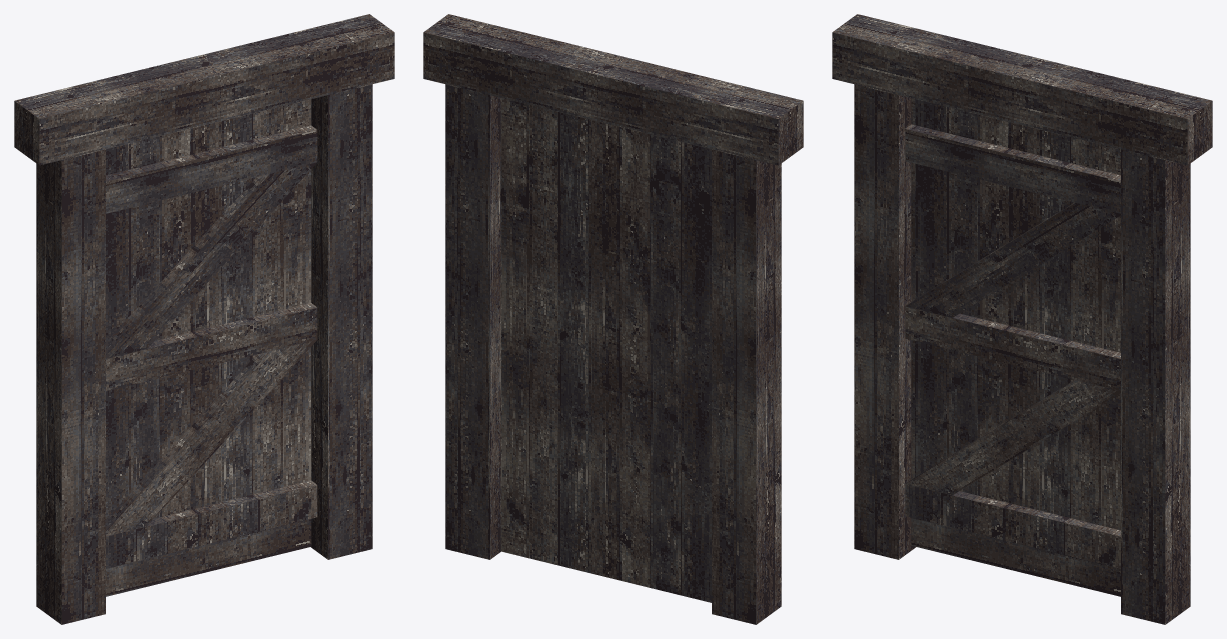
File: door_w_frame.glb
The picture shows the model from 3 angles, left to right: view 1: azimuth 30°, elevation 25°; view 2: azimuth 150°, elevation 25°; view 3: azimuth 330°, elevation 25°; orthographic projection.
Visible parts, largest first — view 1: Door, Door Frame; view 2: Door, Door Frame; view 3: Door, Door Frame.
Part boxes in pixels (box(x1,y1,x2,y2)): Door: box(106, 99, 317, 596); Door Frame: box(14, 14, 394, 624); Door: box(500, 98, 711, 602); Door Frame: box(423, 14, 803, 624); Door: box(905, 98, 1120, 596); Door Frame: box(832, 14, 1212, 624).
Bounding box in the file's own units: 1.63 × 2.24 × 0.2.
Materials: 1 (1 with a texture image).
